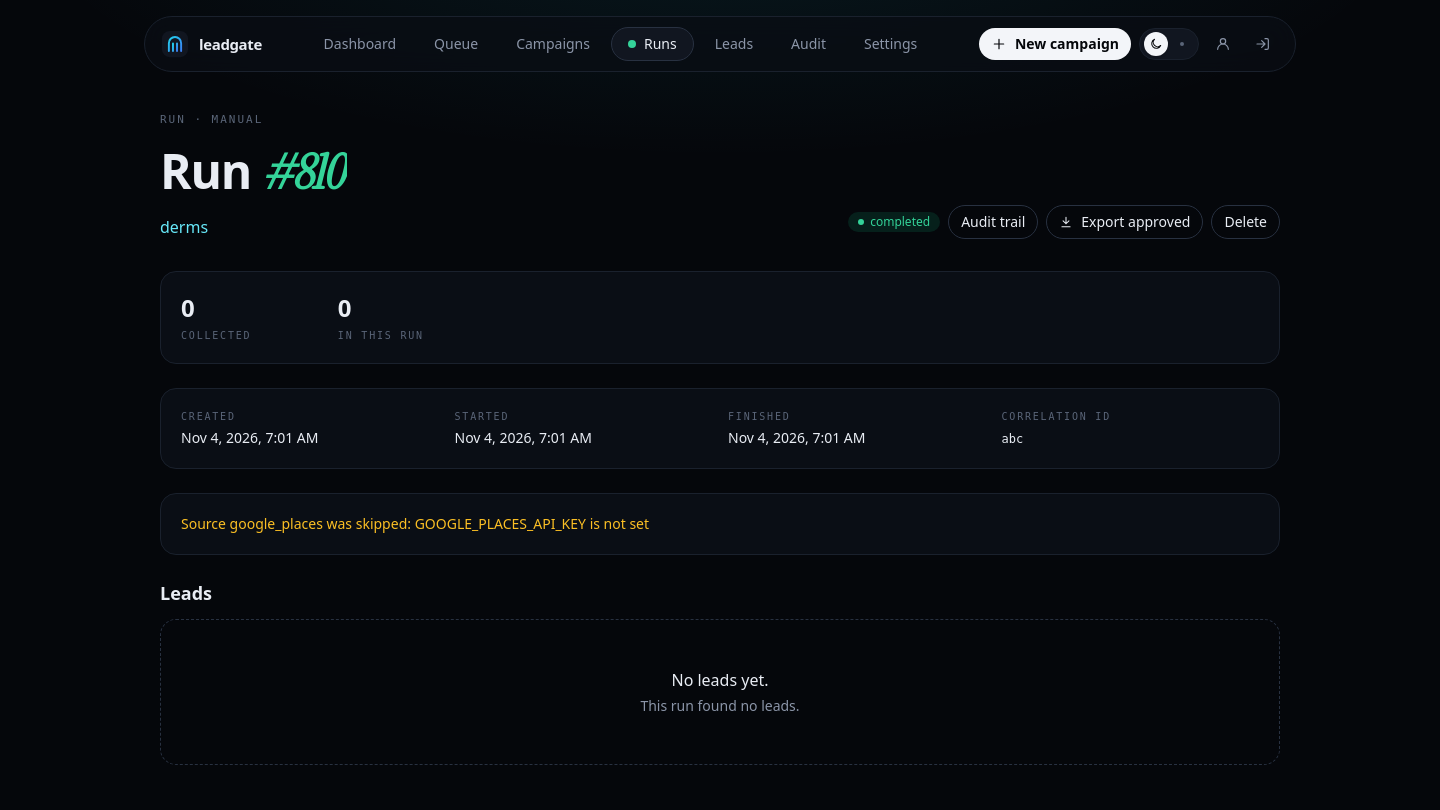
Test: RunPage › deletes a finished run and goes back to its campaign's runs
Click the button "Delete" at (1246, 222), box left=1211, top=204, right=1280, bottom=238
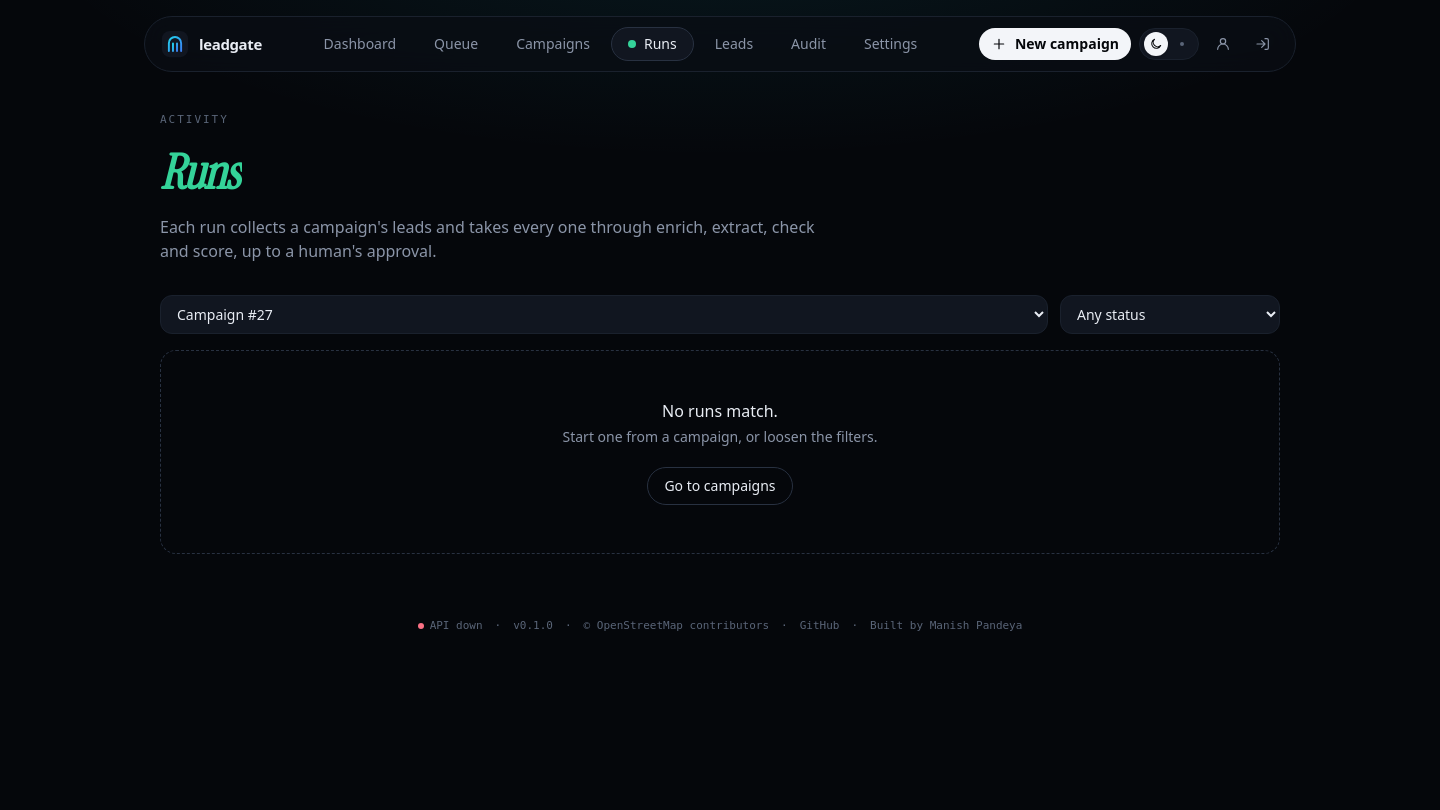
Expected: the heading "Runs" is shown, left=160, top=140, right=242, bottom=204
